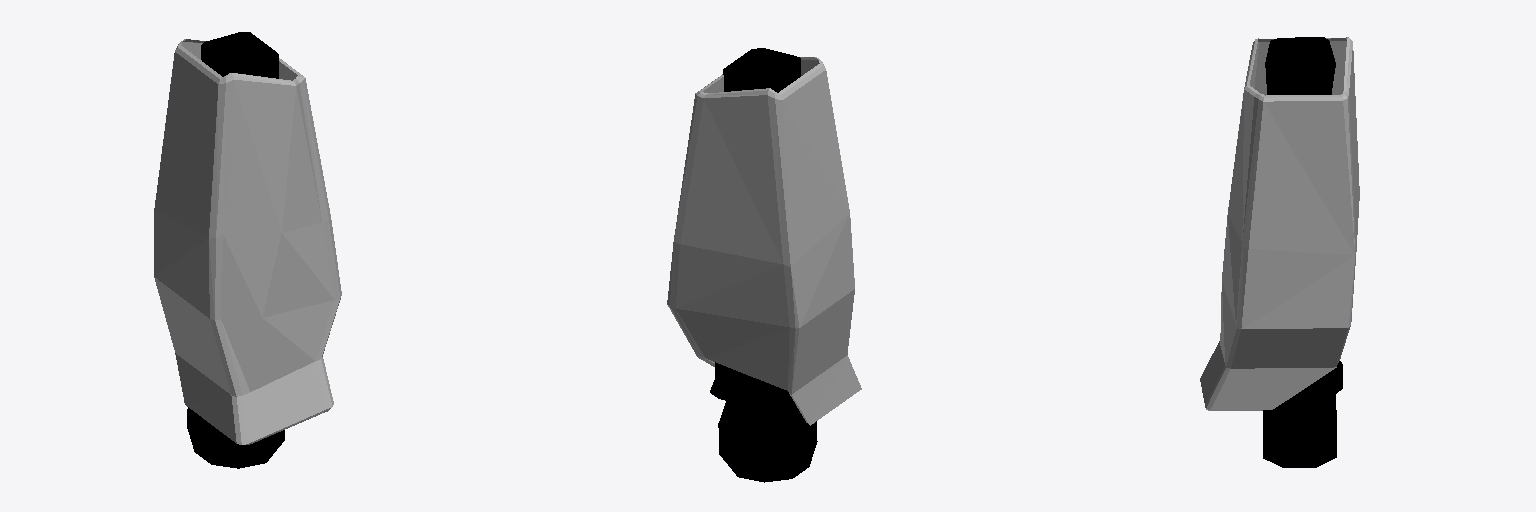
Rendered from Upper_Arm_Left.obj.
The picture shows the model from 3 angles: view 1: azimuth 30°, elevation 25°; view 2: azimuth 150°, elevation 25°; view 3: azimuth 270°, elevation 25°; orthographic projection.
Visible parts, largest first — view 1: upper_arm_left, joint_upper_arm_left; view 2: upper_arm_left, joint_upper_arm_left; view 3: upper_arm_left, joint_upper_arm_left.
Boxes of the visible parts, x1,y1,x2,y2 form: upper_arm_left: [154, 39, 341, 444]; joint_upper_arm_left: [187, 32, 284, 468]; upper_arm_left: [667, 57, 861, 425]; joint_upper_arm_left: [710, 48, 817, 482]; upper_arm_left: [1200, 37, 1359, 410]; joint_upper_arm_left: [1263, 37, 1342, 467].
Size of the model in its own units: 0.3456 by 1 by 0.3582.